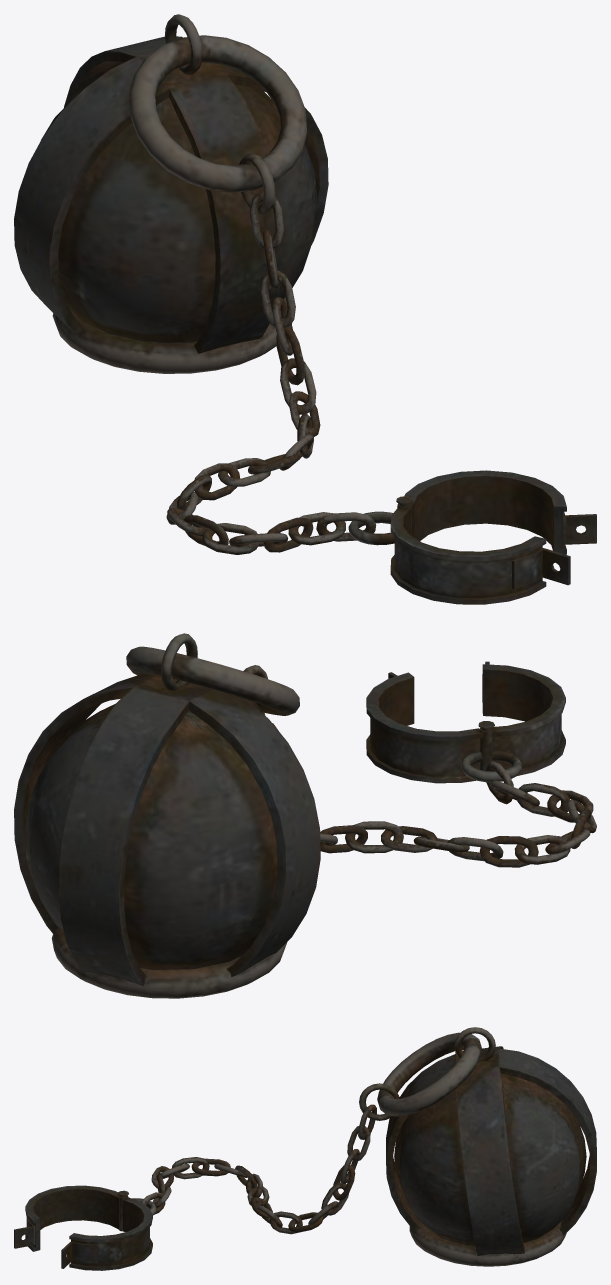
The model's file is SM_Ball_And_Chain.glb.
3 renders of one model, top to bottom at view 1: azimuth 30°, elevation 25°; view 2: azimuth 150°, elevation 25°; view 3: azimuth 270°, elevation 25°, orthographic. The views are drawn at different scales.
Parts seen in each view (by area): view 1: SM_Ball_And_Chain; view 2: SM_Ball_And_Chain; view 3: SM_Ball_And_Chain.
Part boxes in pixels (x1,y1,x2,y2): SM_Ball_And_Chain: [14, 14, 596, 604]; SM_Ball_And_Chain: [14, 633, 596, 998]; SM_Ball_And_Chain: [14, 1027, 596, 1270].
Bounding box in the file's own units: 0.385 × 0.3471 × 0.8433.
Materials: 1 (1 with a texture image).
